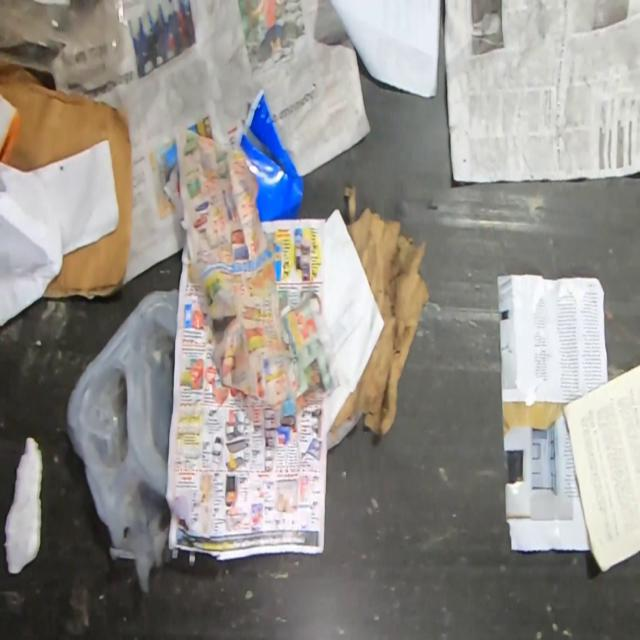cardboard: (0, 60, 135, 302), (329, 185, 430, 437), (0, 97, 19, 165)
rigid_plastic: (66, 288, 178, 593), (0, 0, 129, 96), (235, 88, 305, 222)
